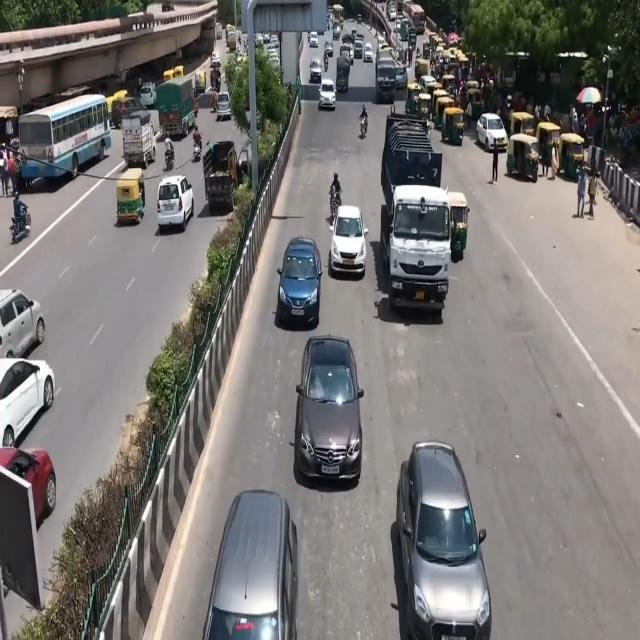Truck: (382, 116, 448, 318)
